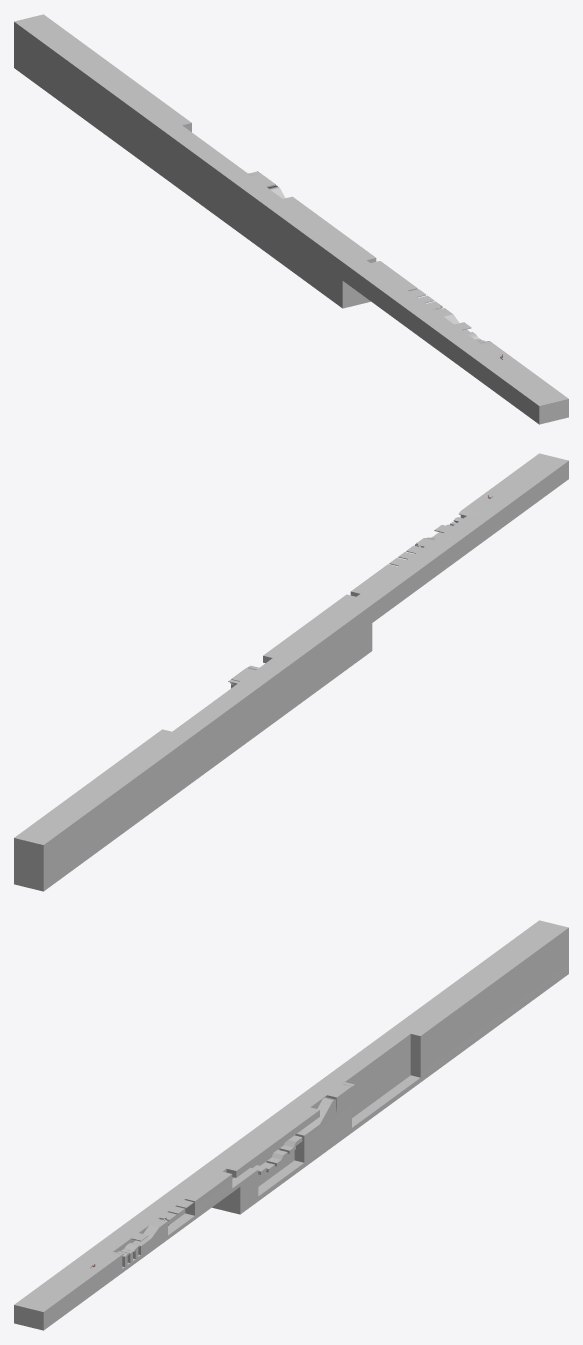
Rendered from stage1allinone2.fbx.
The picture shows the model from 3 angles, top to bottom: view 1: azimuth 30°, elevation 25°; view 2: azimuth 150°, elevation 25°; view 3: azimuth 330°, elevation 25°; orthographic projection.
Visible parts, largest first — view 1: StagePertama; view 2: StagePertama; view 3: StagePertama.
Boxes of the visible parts, x1,y1,x2,y2 form: StagePertama: [14, 14, 568, 424]; StagePertama: [14, 453, 568, 891]; StagePertama: [14, 920, 568, 1330].
Size of the model in its own units: 110 by 172 by 3284.
